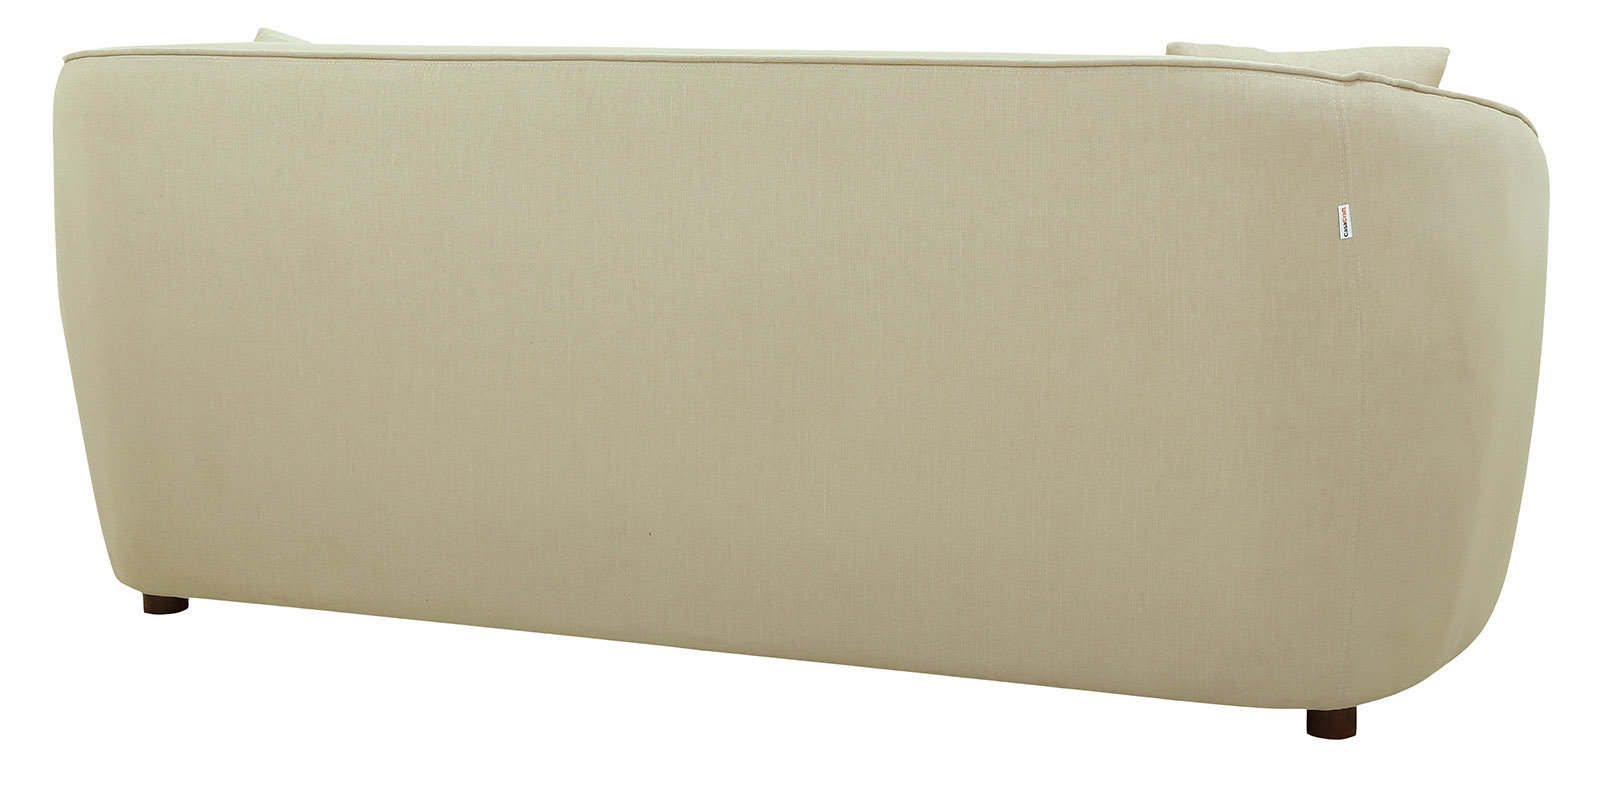Mamore Three Seater Sofa in Beige Color by CasaCraft: (49, 26, 1551, 739)
